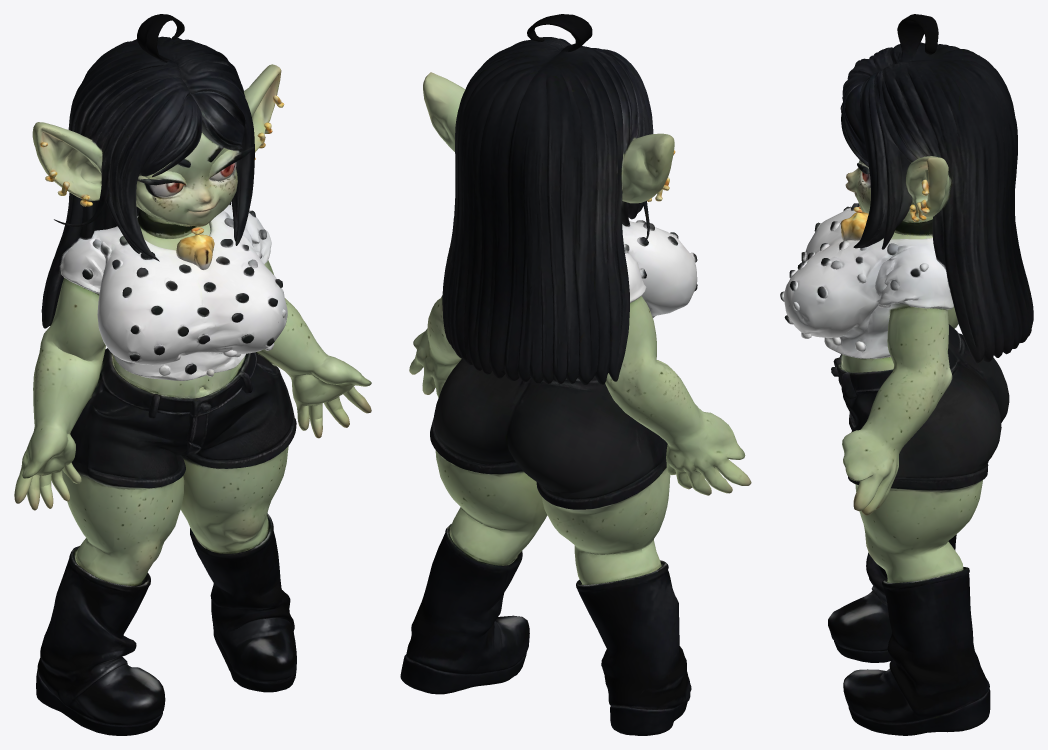
The model's file is oficina-3d-lua.glb.
3 renders of one model, left to right at view 1: azimuth 30°, elevation 25°; view 2: azimuth 150°, elevation 25°; view 3: azimuth 270°, elevation 25°, orthographic. The views are drawn at different scales.
Visible parts, largest first — view 1: model; view 2: model; view 3: model.
Part boxes in pixels (box(x1,y1,x2,y2)): model: box(14, 14, 371, 735); model: box(400, 14, 751, 735); model: box(780, 14, 1033, 735).
Bounding box in the file's own units: 1.01 × 1.9 × 0.6572.
1 material, 1 textured.
